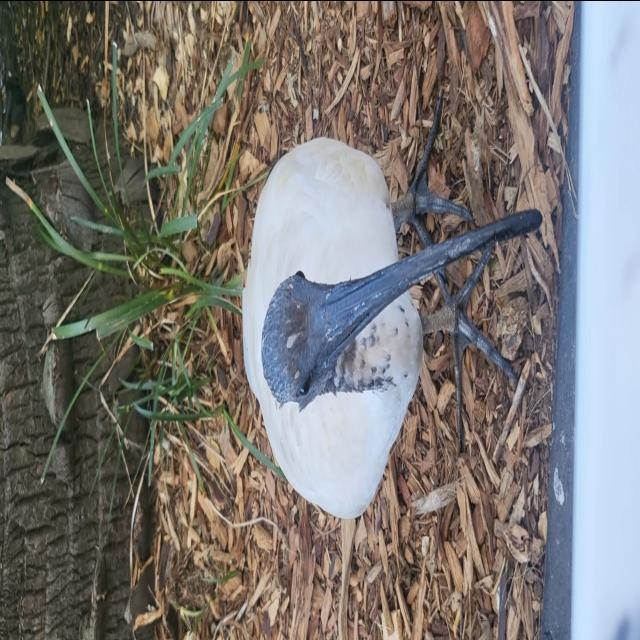Birds-Ibis: (238, 80, 544, 528)
